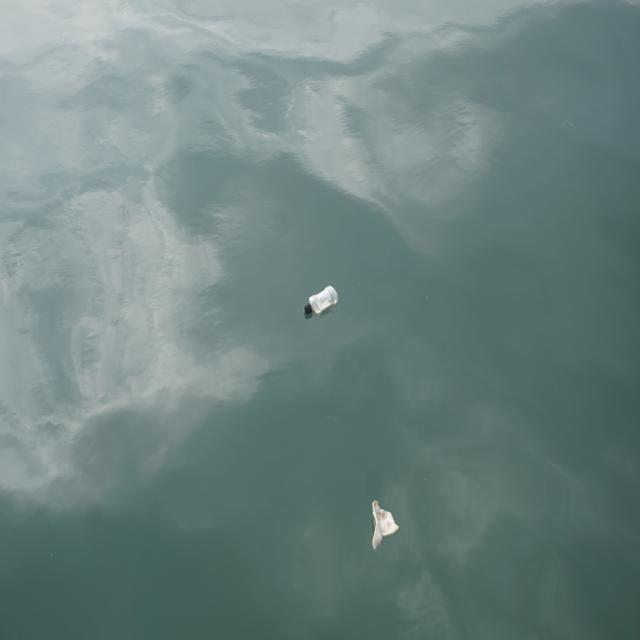Botol Plastik: (304, 283, 340, 322)
